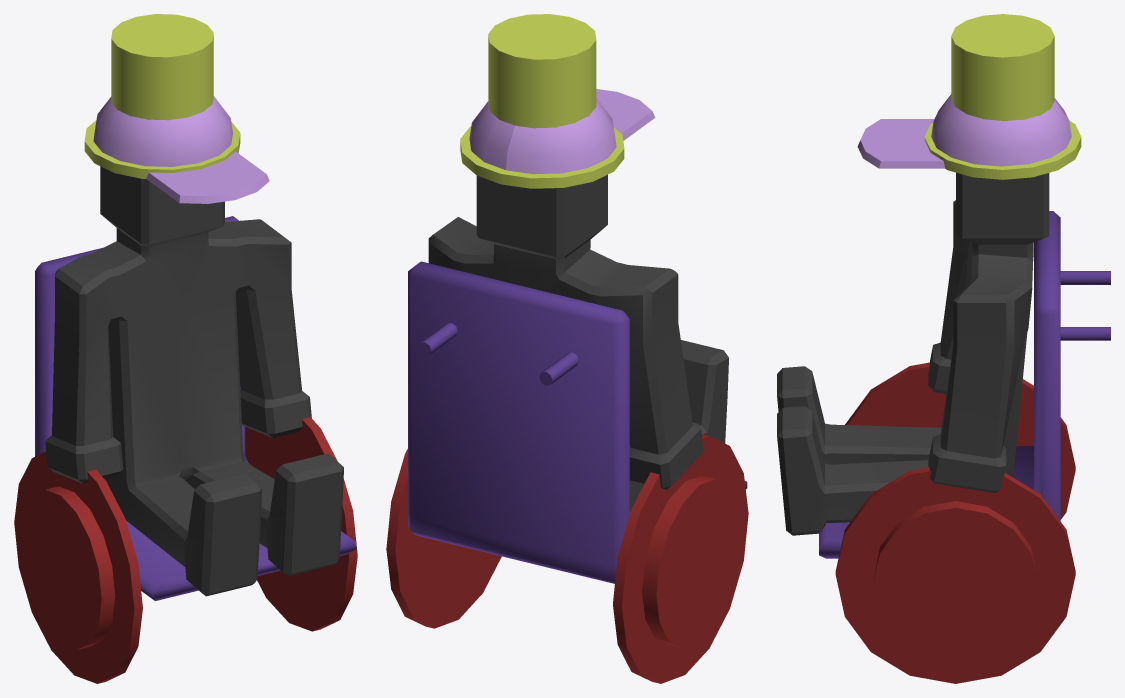
File: Perso.FBX
The picture shows the model from 3 angles, left to right: view 1: azimuth 30°, elevation 25°; view 2: azimuth 150°, elevation 25°; view 3: azimuth 270°, elevation 25°; orthographic projection. The views are drawn at different scales.
Parts seen in each view (by area): view 1: Perso, Roue 1, Chapeau, Casquette, Roue 2, Fauteuil; view 2: Fauteuil, Perso, Roue 1, Chapeau, Roue 2, Casquette; view 3: Perso, Roue 2, Chapeau, Fauteuil, Casquette, Roue 1.
Part boxes in pixels (left/top/right/bottom): Perso: left=45, top=166, right=343, bottom=596; Roue 1: left=14, top=451, right=142, bottom=683; Chapeau: left=84, top=14, right=240, bottom=178; Casquette: left=93, top=96, right=269, bottom=203; Roue 2: left=245, top=416, right=357, bottom=631; Fauteuil: left=35, top=216, right=356, bottom=600; Fauteuil: left=408, top=261, right=747, bottom=583; Perso: left=428, top=174, right=728, bottom=511; Roue 1: left=613, top=434, right=748, bottom=683; Chapeau: left=460, top=14, right=624, bottom=188; Roue 2: left=386, top=449, right=501, bottom=628; Casquette: left=469, top=89, right=655, bottom=174; Perso: left=777, top=172, right=1049, bottom=535; Roue 2: left=835, top=467, right=1075, bottom=683; Chapeau: left=924, top=14, right=1081, bottom=179; Fauteuil: left=819, top=211, right=1110, bottom=558; Casquette: left=857, top=94, right=1071, bottom=168; Roue 1: left=845, top=362, right=1075, bottom=519.
Bounding box in the file's own units: 7.73 × 17.54 × 8.94.
